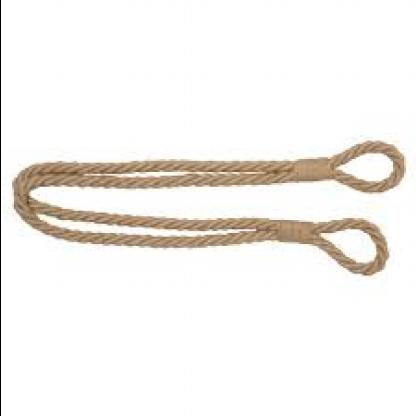Rope: (7, 138, 411, 281)
